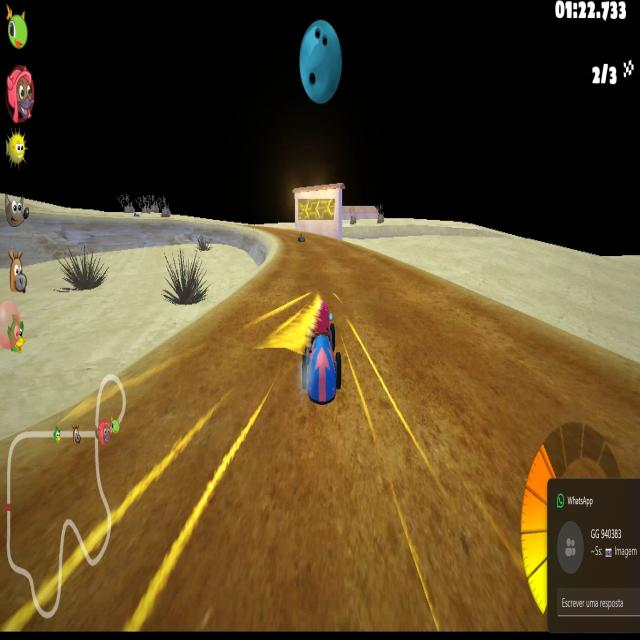player_kart: (292, 303, 344, 411)
track: (344, 299, 547, 640), (5, 446, 343, 640), (551, 323, 640, 490), (41, 411, 343, 443), (121, 364, 291, 412), (186, 323, 293, 359), (339, 253, 402, 295), (402, 269, 471, 304), (298, 247, 338, 297), (222, 303, 293, 324), (256, 274, 299, 300), (312, 229, 343, 248), (272, 254, 298, 273), (279, 226, 295, 253), (252, 218, 277, 232)
